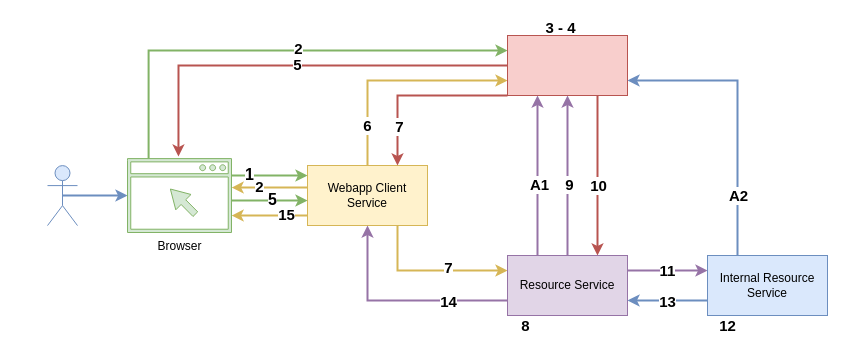
This 845x352 diagram has some shape labels left out. Here are the shapes that lost their labels. From the top down, the box of each, then its label:
(506, 34, 628, 96): Authorisation Service
(46, 165, 78, 226): Resource Owner
